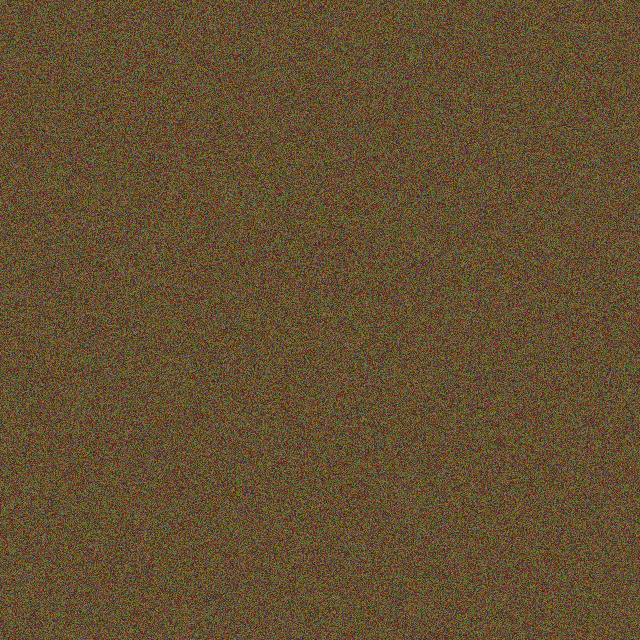human: (288, 352, 351, 446)
